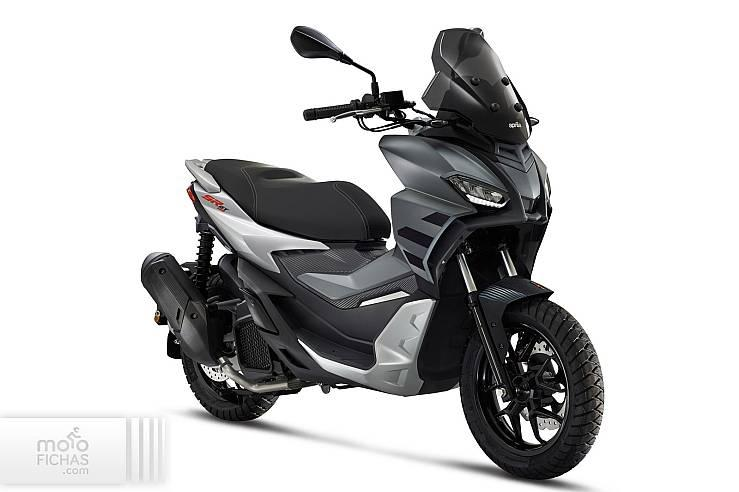engine-chasis: (233, 255, 474, 395), (192, 232, 215, 297)
exhaust: (141, 252, 309, 392)
frontside: (378, 29, 554, 403), (277, 241, 419, 309)
handlebar: (291, 25, 448, 134), (530, 117, 540, 128)
motorbike: (140, 25, 601, 477)
rearside: (184, 159, 331, 377), (167, 319, 181, 359), (182, 262, 197, 281), (209, 264, 220, 275)
seat: (204, 159, 391, 241)
watermark: (0, 415, 175, 485)
wheel: (460, 296, 605, 478), (181, 353, 279, 421)
